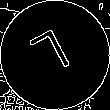L_SE: (30, 25, 80, 84)
